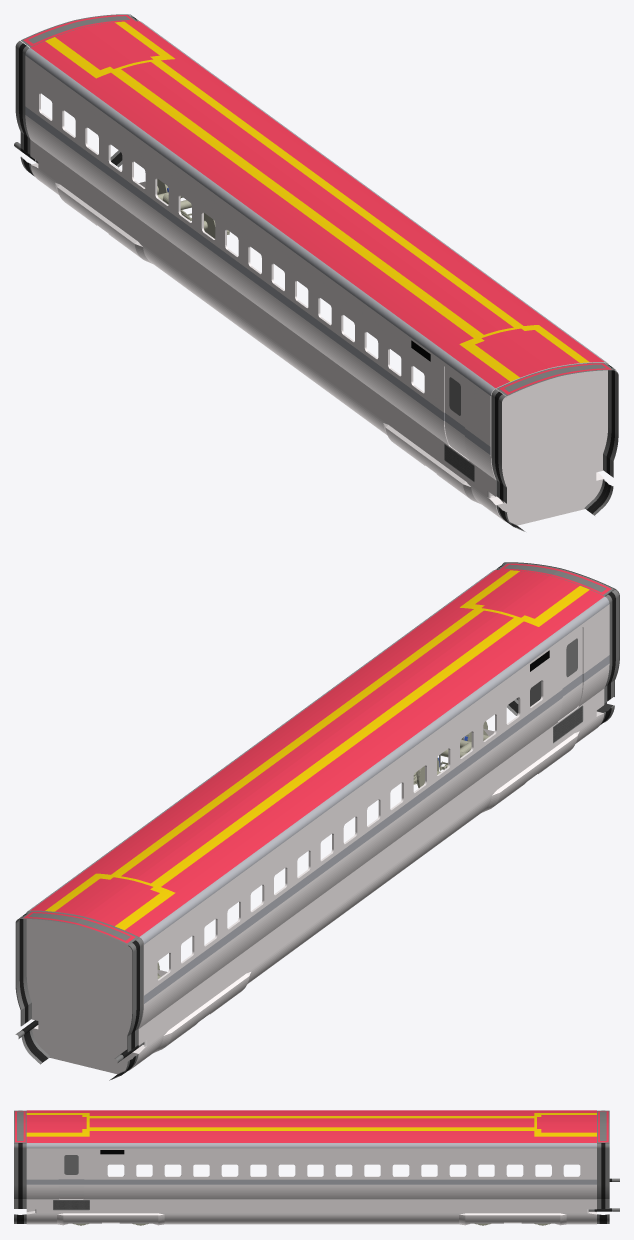
Rendered from JR-E6-simple-car5.glb.
The picture shows the model from 3 angles, top to bottom: view 1: azimuth 30°, elevation 25°; view 2: azimuth 150°, elevation 25°; view 3: azimuth 270°, elevation 25°; orthographic projection. The views are drawn at different scales.
Visible parts, largest first — view 1: コンポーネント#1, Component#6, Component#6.001, Group#15.001; view 2: コンポーネント#1, Component#6.001, Component#6, Group#15.001; view 3: コンポーネント#1, Component#6, Component#6.001, Group#15.
Boxes of the visible parts, left/top/right/bottom form: コンポーネント#1: left=25, top=21, right=608, bottom=525; Component#6: left=491, top=362, right=618, bottom=531; Component#6.001: left=15, top=14, right=139, bottom=176; Group#15.001: left=444, top=366, right=468, bottom=459; コンポーネント#1: left=26, top=570, right=609, bottom=1074; Component#6.001: left=15, top=911, right=143, bottom=1080; Component#6: left=495, top=563, right=619, bottom=724; Group#15.001: left=558, top=627, right=582, bottom=720; コンポーネント#1: left=26, top=1110, right=596, bottom=1225; Component#6: left=14, top=1110, right=26, bottom=1223; Component#6.001: left=597, top=1110, right=609, bottom=1223; Group#15: left=58, top=1150, right=84, bottom=1198.
Size of the model in its own units: 2.95 by 3.67 by 21.26.
Materials: 16 (2 with a texture image).
